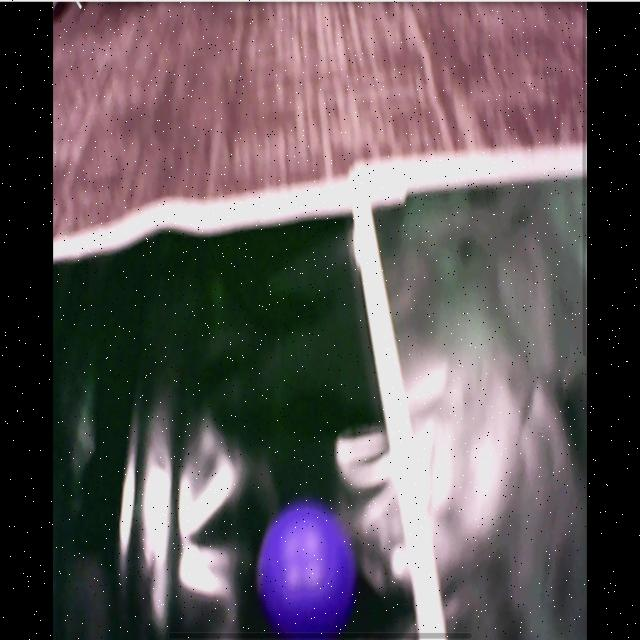ball: (257, 508, 355, 634)
